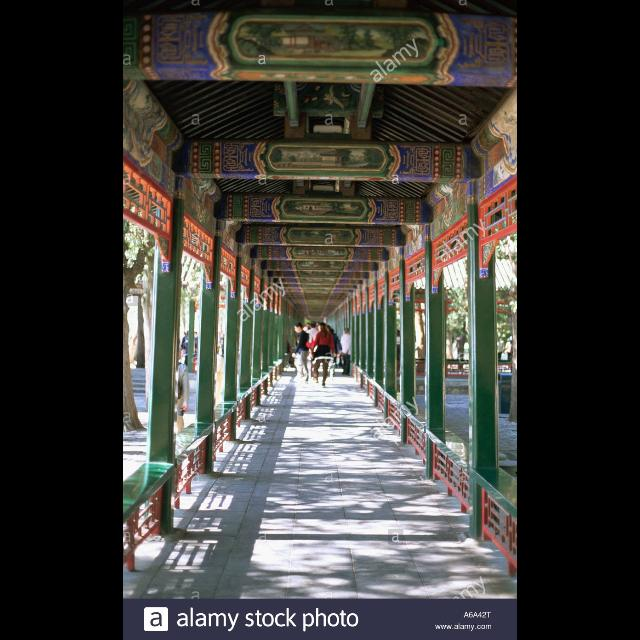head: (169, 344, 183, 362), (294, 322, 304, 333), (318, 323, 326, 332), (310, 322, 318, 330), (345, 328, 351, 334), (330, 328, 336, 334)
person: (153, 338, 189, 472), (309, 322, 336, 388), (291, 322, 311, 382), (306, 320, 324, 380), (324, 324, 342, 368), (340, 328, 352, 374)
